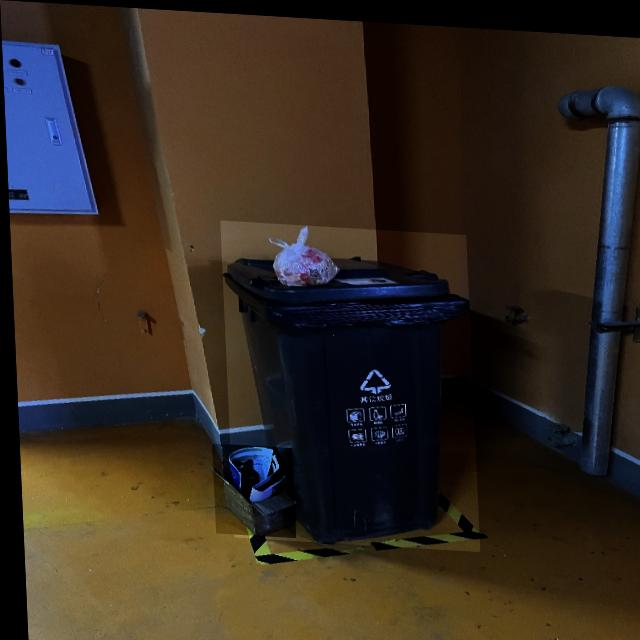garbage: (208, 441, 291, 535)
overflow: (218, 218, 475, 546)
